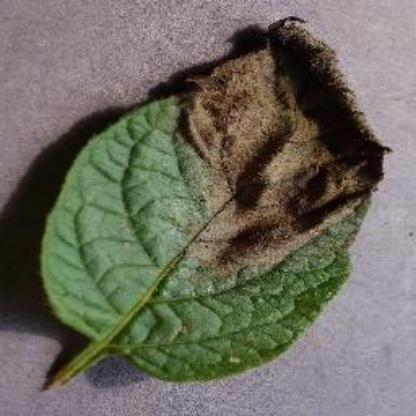Late-Blight: (35, 15, 396, 393)
